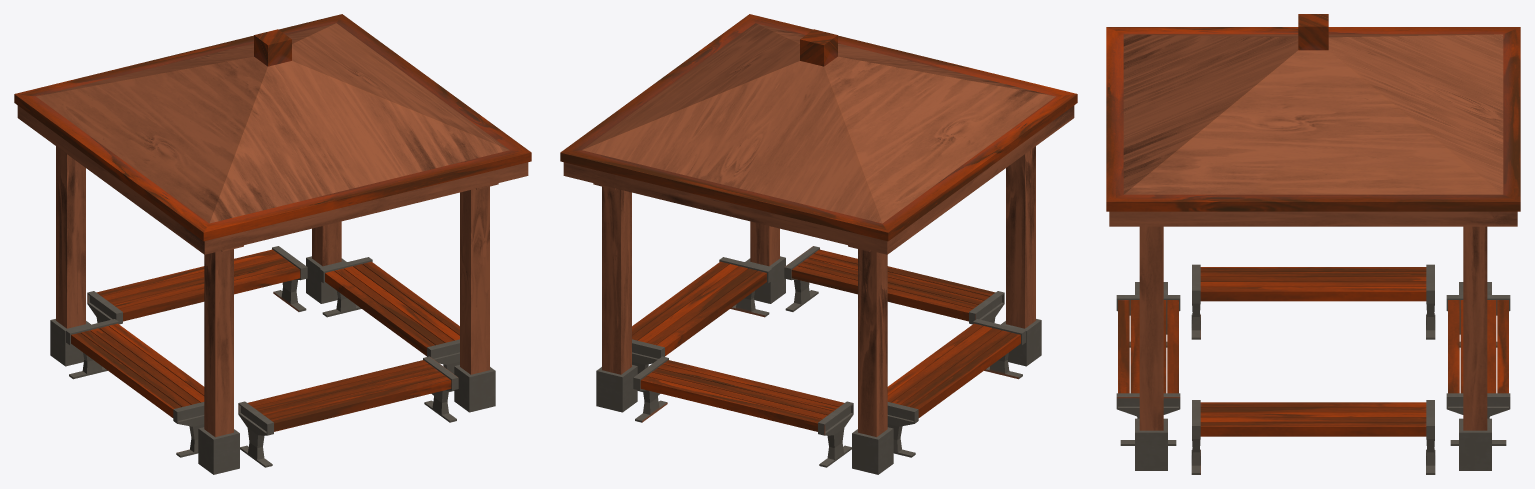
Rendered from Pavilion.fbx.
3 views of the same model, side by side, from view 1: azimuth 30°, elevation 25°; view 2: azimuth 150°, elevation 25°; view 3: azimuth 270°, elevation 25° (orthographic). The views are drawn at different scales.
Visible parts, largest first — view 1: PavilionBench; view 2: PavilionBench; view 3: PavilionBench.
Part boxes in pixels (bbox=[...]): PavilionBench: bbox=[14, 14, 531, 474]; PavilionBench: bbox=[560, 14, 1077, 474]; PavilionBench: bbox=[1106, 14, 1520, 474].
Size of the model in its own units: 470 by 471 by 470.
